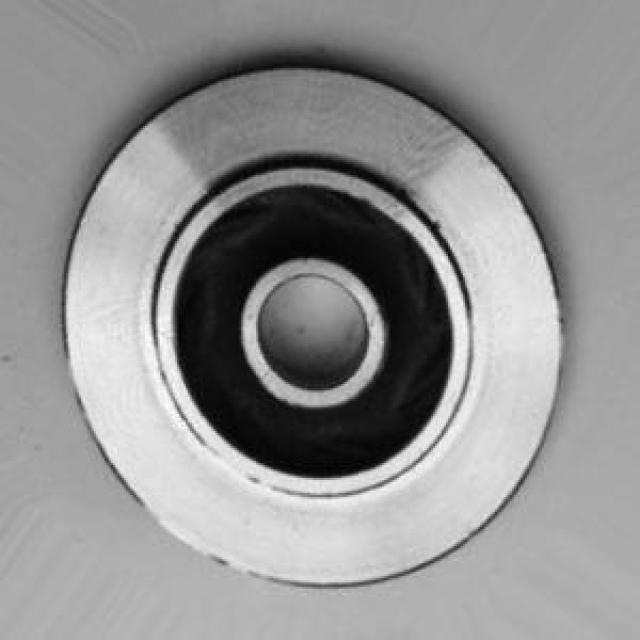Defect: (424, 210, 453, 240)
